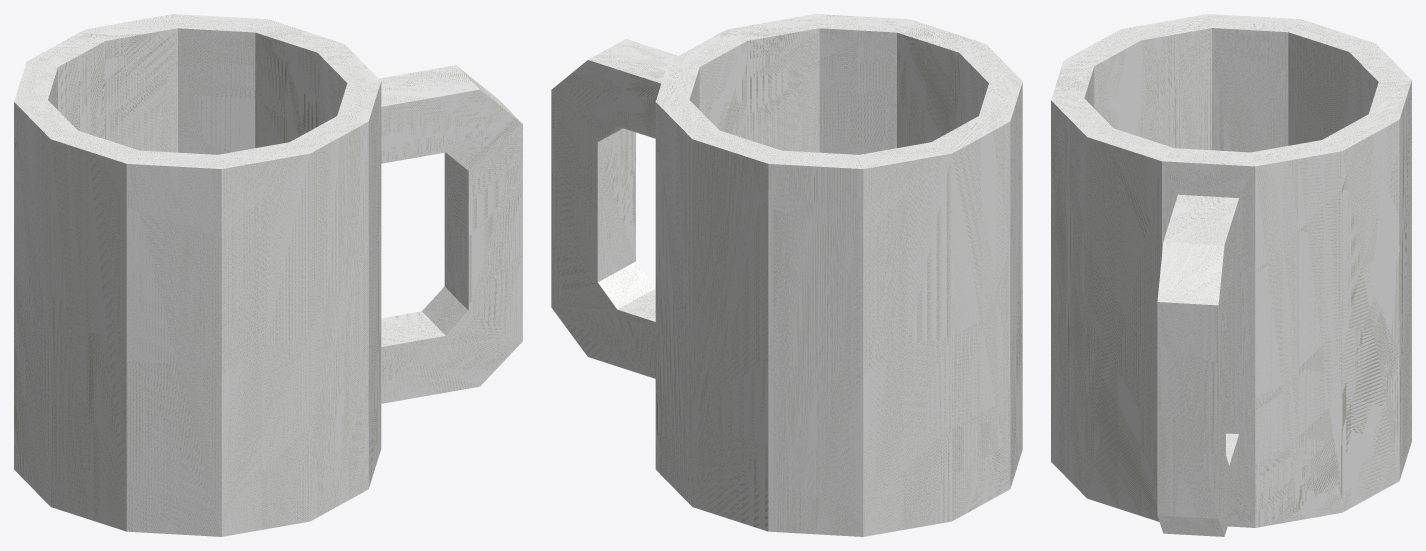
The picture shows the model from 3 angles, left to right: view 1: azimuth 30°, elevation 25°; view 2: azimuth 150°, elevation 25°; view 3: azimuth 270°, elevation 25°; orthographic projection.
Visible parts, largest first — view 1: mesh1_mesh1-geometry; view 2: mesh1_mesh1-geometry; view 3: mesh1_mesh1-geometry.
Part boxes in pixels (box(x1,y1,x2,y2)): mesh1_mesh1-geometry: box(14, 14, 522, 536); mesh1_mesh1-geometry: box(551, 14, 1022, 536); mesh1_mesh1-geometry: box(1051, 14, 1411, 536).
Size of the model in its own units: 0.6915 by 0.5358 by 0.4846.
